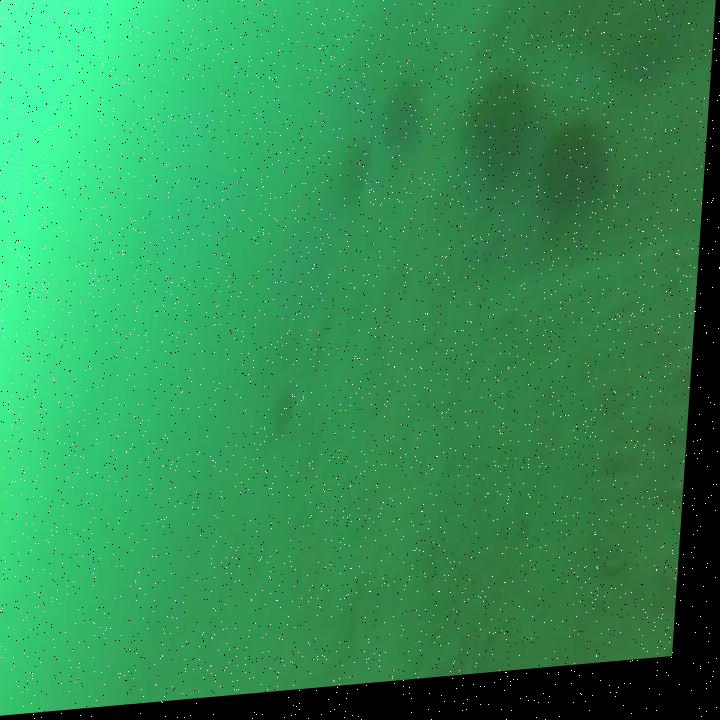echinus: (464, 81, 538, 187), (547, 131, 607, 222), (385, 93, 424, 149), (340, 149, 373, 205), (278, 390, 301, 434)
